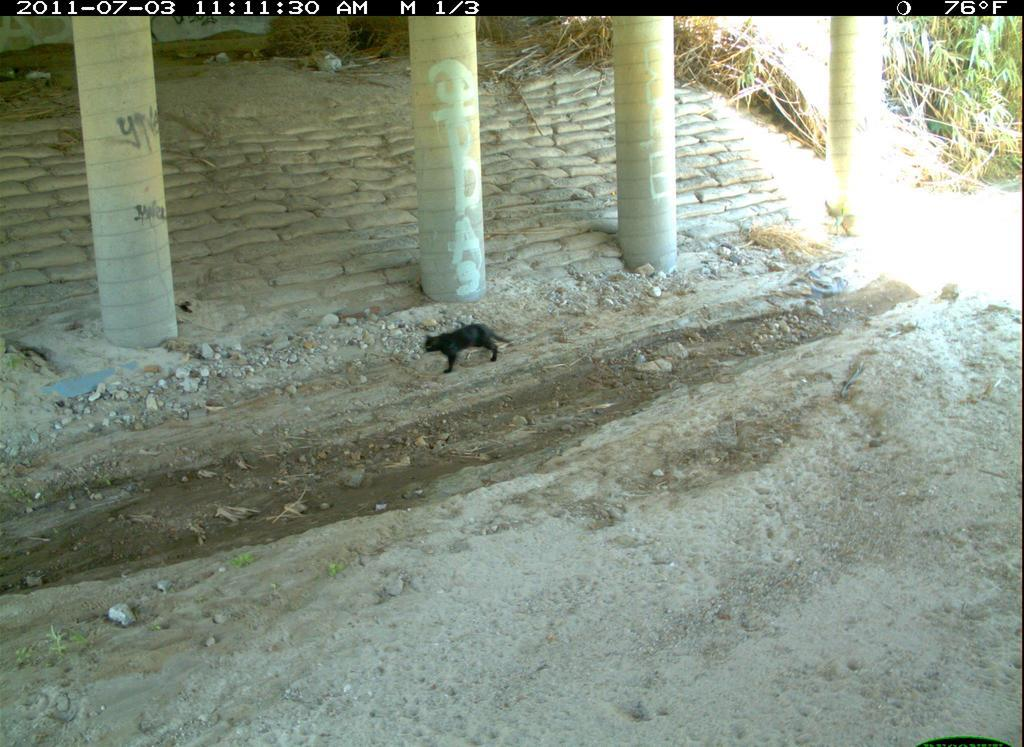cat: (840, 638, 1024, 747)
